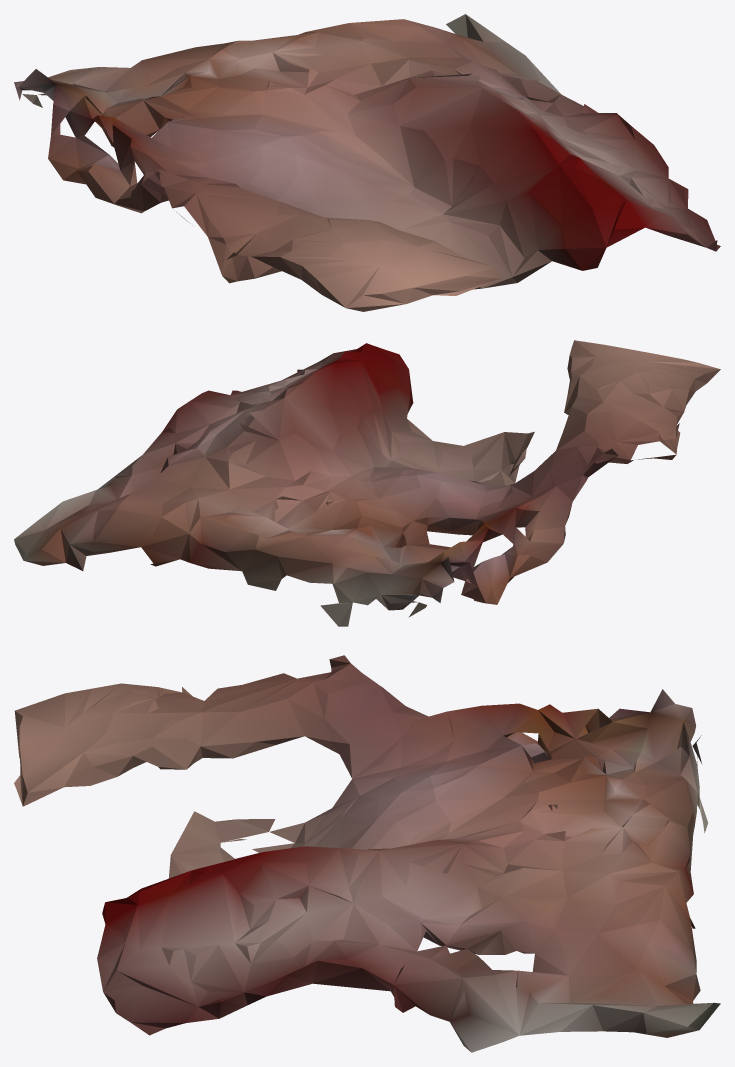
The model's file is rear_run__upper_microwave_left.scan.glb.
3 views of the same model, one above another, from view 1: azimuth 30°, elevation 25°; view 2: azimuth 150°, elevation 25°; view 3: azimuth 270°, elevation 25° (orthographic). The views are drawn at different scales.
Parts seen in each view (by area): view 1: geometry_0; view 2: geometry_0; view 3: geometry_0.
Boxes of the visible parts, x1,y1,x2,y2 form: geometry_0: (14,14,720,311); geometry_0: (14,340,720,626); geometry_0: (14,655,720,1052).
Size of the model in its own units: 0.4262 by 0.1093 by 0.4861.
